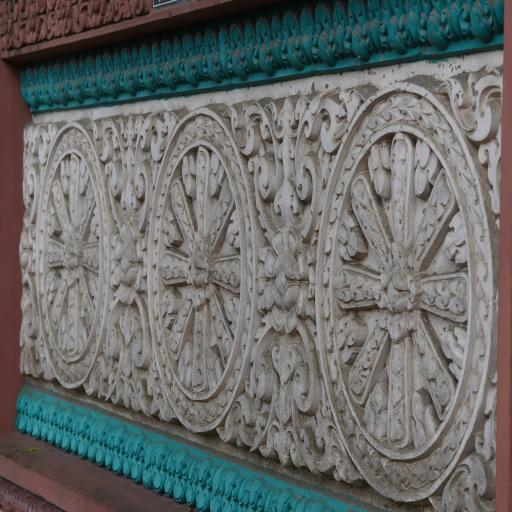hoa: (323, 80, 498, 506), (145, 113, 262, 434), (32, 120, 113, 394), (263, 226, 312, 342), (110, 224, 146, 310)
la: (442, 75, 504, 139), (305, 86, 360, 150), (443, 451, 492, 512), (261, 418, 309, 470), (300, 4, 336, 65), (334, 0, 370, 61), (404, 0, 445, 50), (370, 0, 406, 50), (266, 99, 312, 138), (272, 11, 300, 71), (188, 449, 214, 512), (245, 16, 273, 74), (193, 29, 221, 84), (220, 22, 246, 79), (116, 116, 153, 156), (142, 436, 167, 495), (470, 0, 501, 47), (166, 448, 190, 503), (239, 473, 272, 512), (214, 464, 240, 512), (29, 121, 62, 158), (444, 0, 470, 46), (113, 376, 144, 414), (172, 35, 195, 85), (90, 412, 110, 468), (150, 40, 172, 85), (107, 422, 125, 476), (77, 56, 98, 102), (17, 66, 39, 108), (131, 44, 152, 88), (58, 402, 74, 458), (94, 54, 114, 98), (125, 430, 141, 484), (42, 395, 60, 442), (46, 64, 66, 106), (72, 406, 88, 458), (112, 50, 132, 90), (34, 65, 51, 109), (62, 61, 80, 101), (18, 386, 32, 433), (29, 395, 43, 437)
